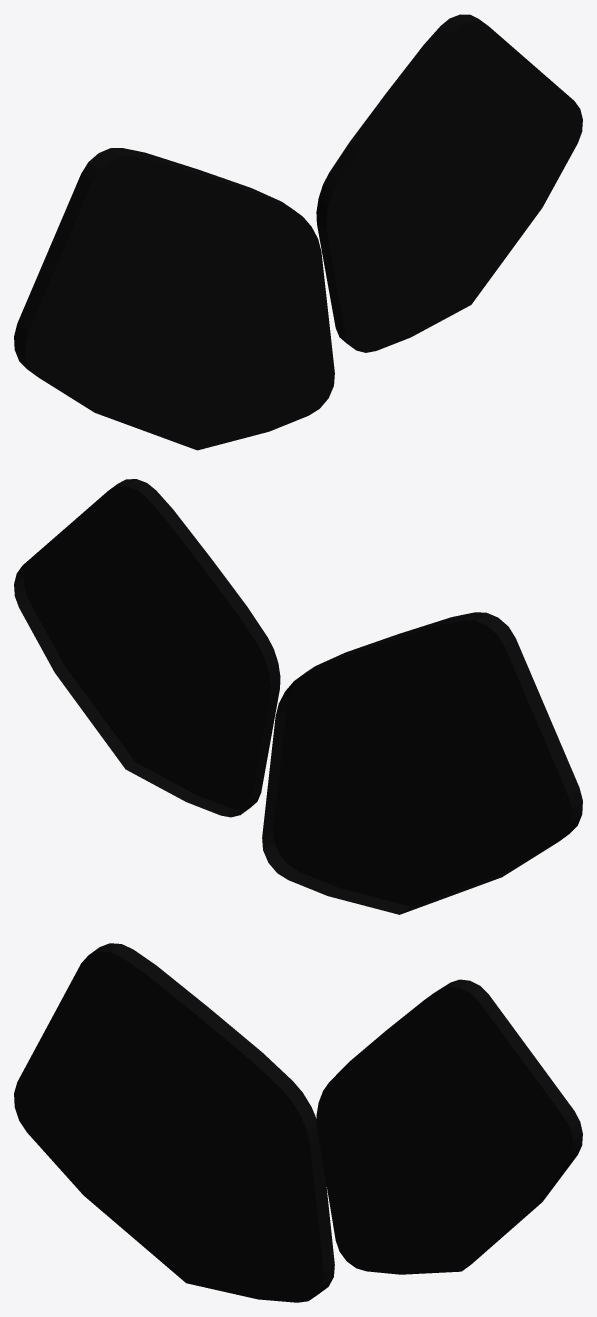
Rendered from F_close_yoru_eyes.fbx.
3 views of the same model, one above another, from view 1: azimuth 30°, elevation 25°; view 2: azimuth 150°, elevation 25°; view 3: azimuth 330°, elevation 25° (orthographic).
Visible parts, largest first — view 1: Close_your_eyes; view 2: Close_your_eyes; view 3: Close_your_eyes.
Boxes of the visible parts, bbox=[...] form: Close_your_eyes: bbox=[14, 14, 582, 450]; Close_your_eyes: bbox=[14, 479, 582, 914]; Close_your_eyes: bbox=[14, 943, 582, 1302].
Size of the model in its own units: 37.51 by 23.2 by 1.31.
